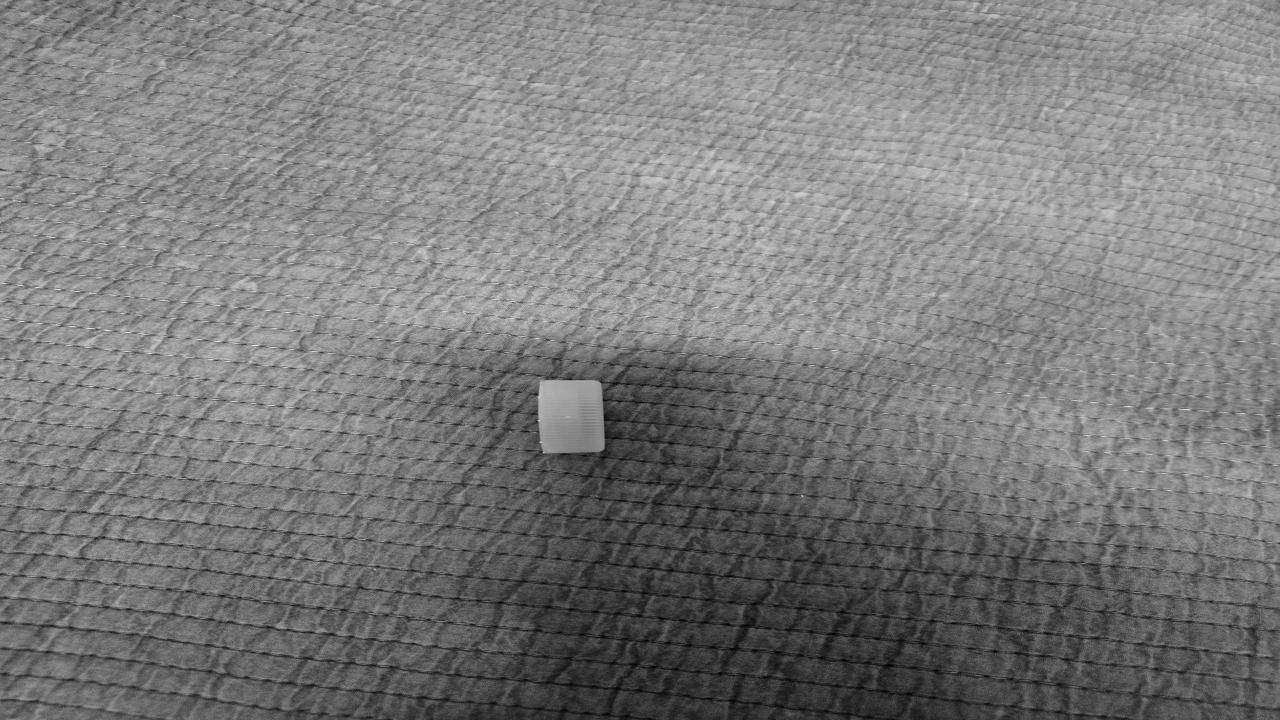bottle_cap: (537, 379, 606, 453)
